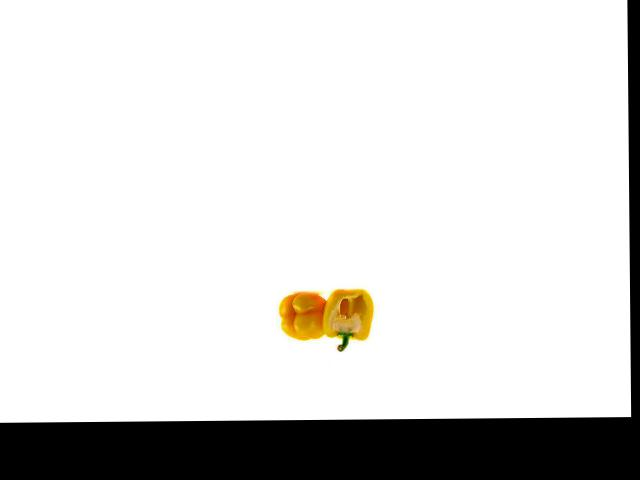bell_pepper: (313, 277, 377, 352)
